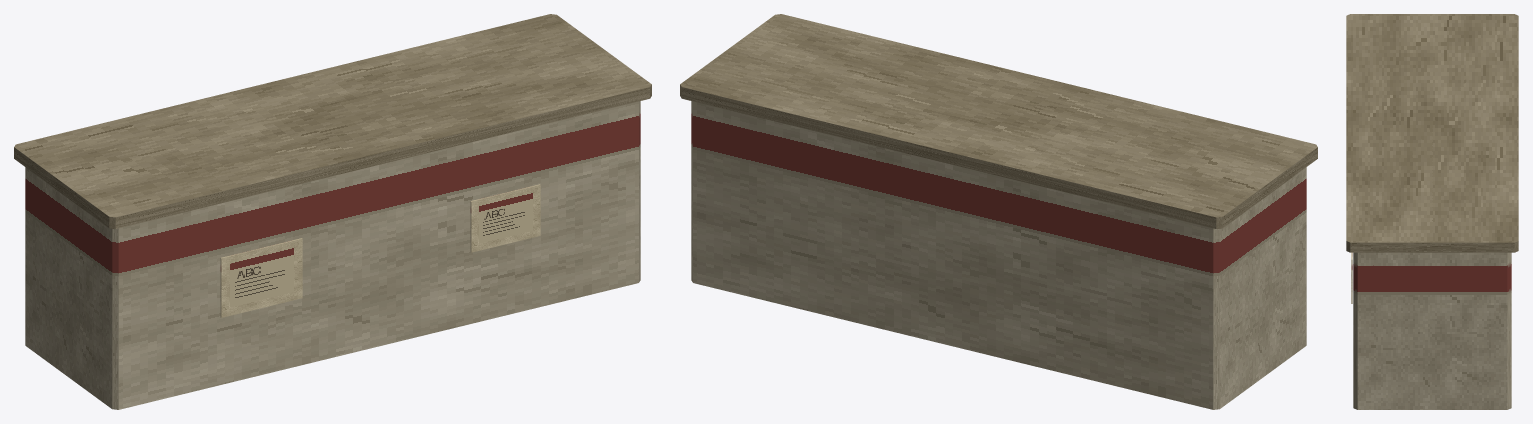
File: counter.glb
3 renders of one model, left to right at view 1: azimuth 30°, elevation 25°; view 2: azimuth 150°, elevation 25°; view 3: azimuth 270°, elevation 25°, orthographic. The views are drawn at different scales.
Visible parts, largest first — view 1: Body; view 2: Body; view 3: Body.
Boxes of the visible parts, x1,y1,x2,y2 form: Body: (14,14,651,409); Body: (680,14,1317,409); Body: (1346,14,1518,409).
Bounding box in the file's own units: 2.67 × 0.9275 × 0.85.
1 material, 1 textured.
